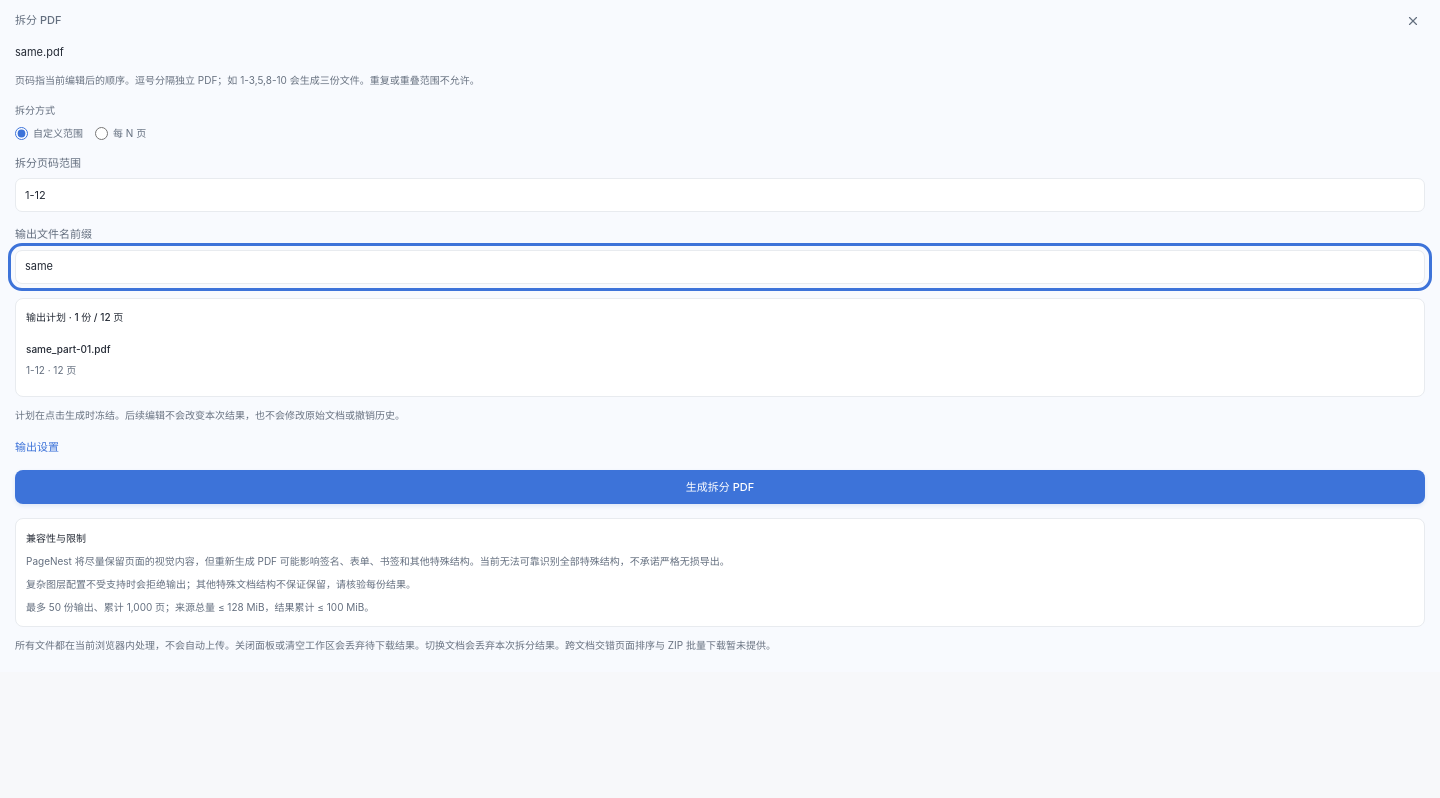
Scenario: PDF merge and split operation panel › previews every-N remainder outputs and downloads verified results only by individual clicks
Click the radio button labelled "每 N 页".
click(102, 133)  # box [95,127,108,140]
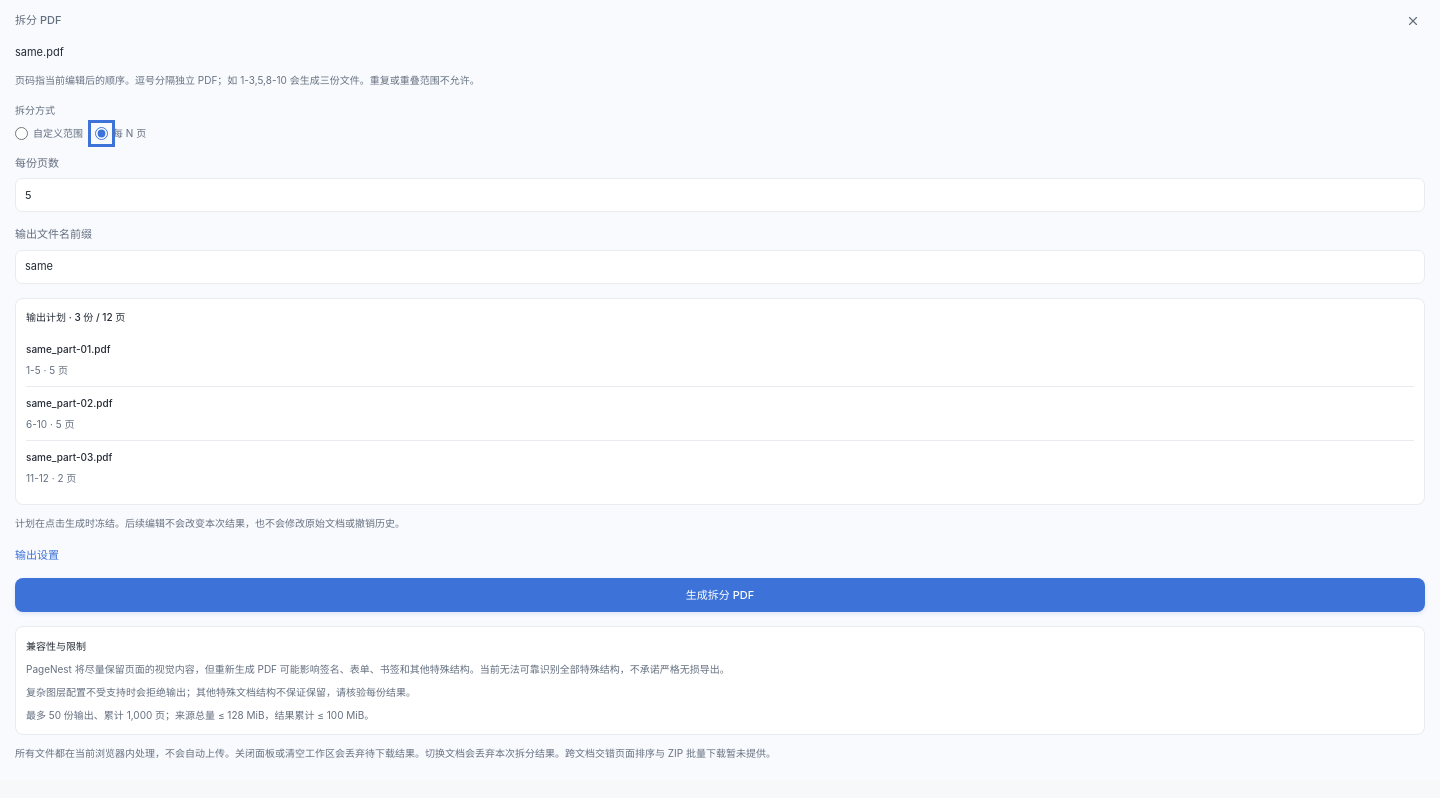
Replace the text in the field labelled "输出文件名前缀" with "报告/新版" at (720, 267), box [15,250,1425,284]
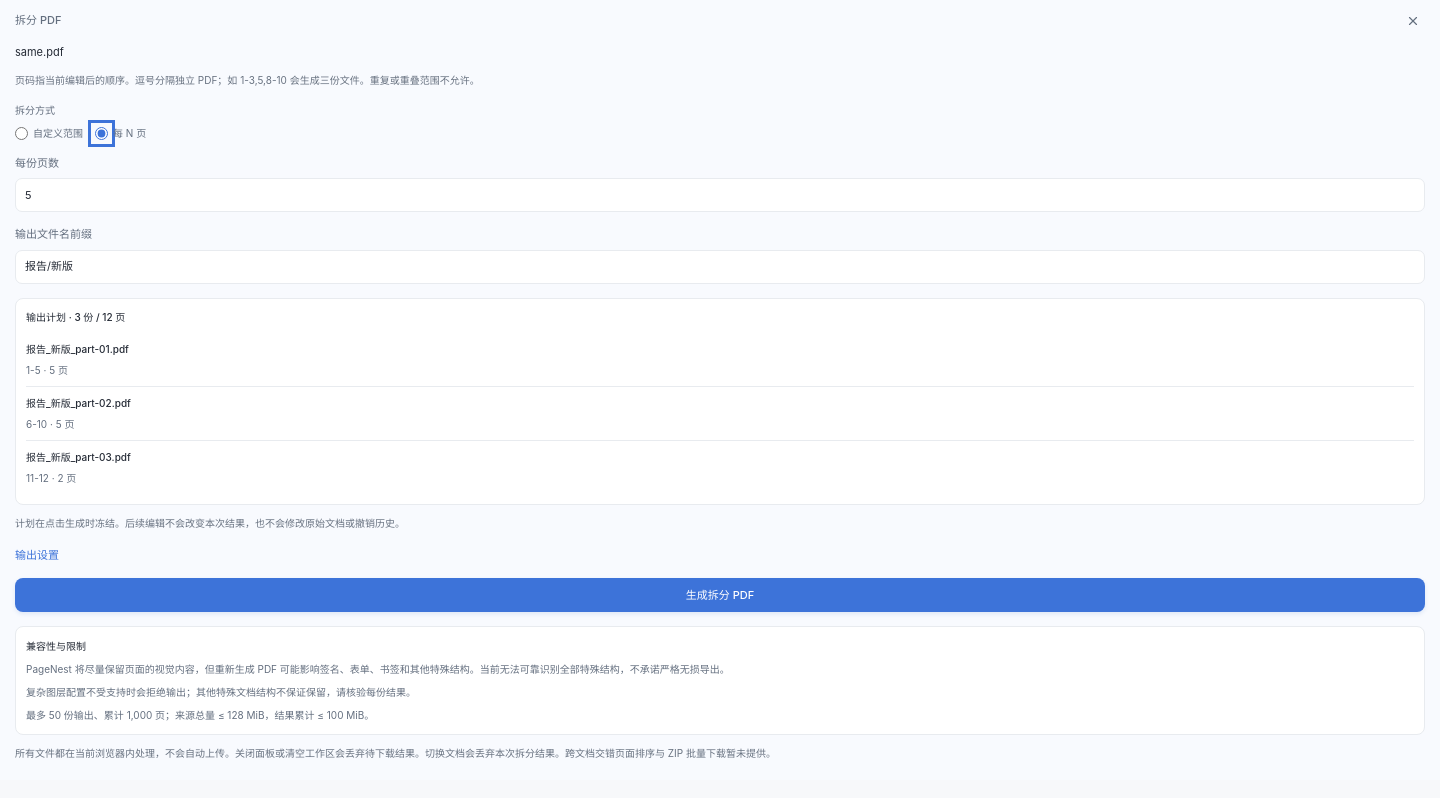
Expected: the number of list items is 3, [26,343,129,376]; [26,386,1414,440]; [26,440,1414,494]
Expected: the text "11-12 · 2 页" is shown, [26,472,76,484]
Expected: the text "报告_新版_part-03.pdf" is shown, [26,451,131,463]
Click the button "生成拆分 PDF".
click(720, 596)  # box [15,578,1425,612]
(page scrolled)
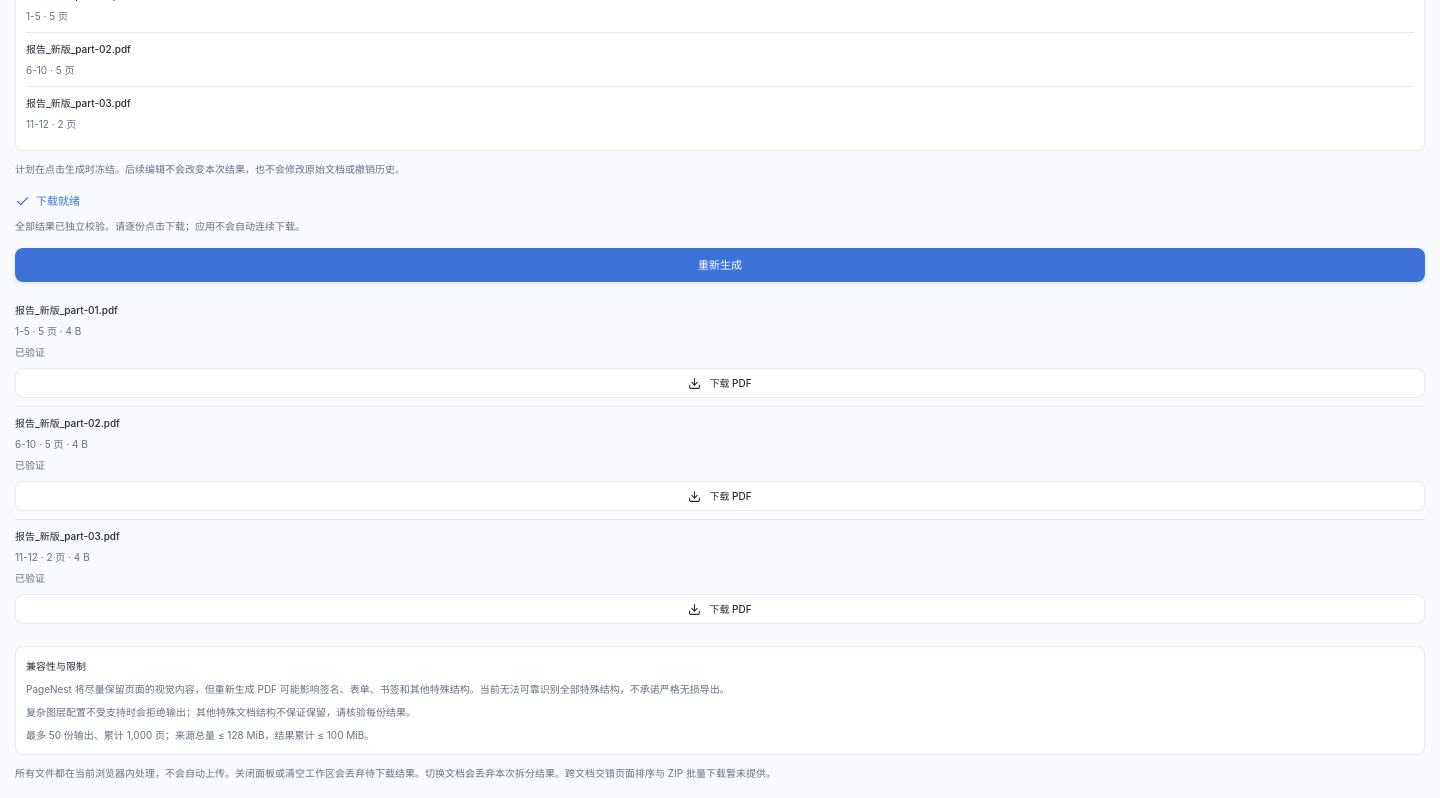
Click the button with aria-label "下载 报告_新版_part-02.pdf".
click(720, 496)  # box [15,482,1425,512]
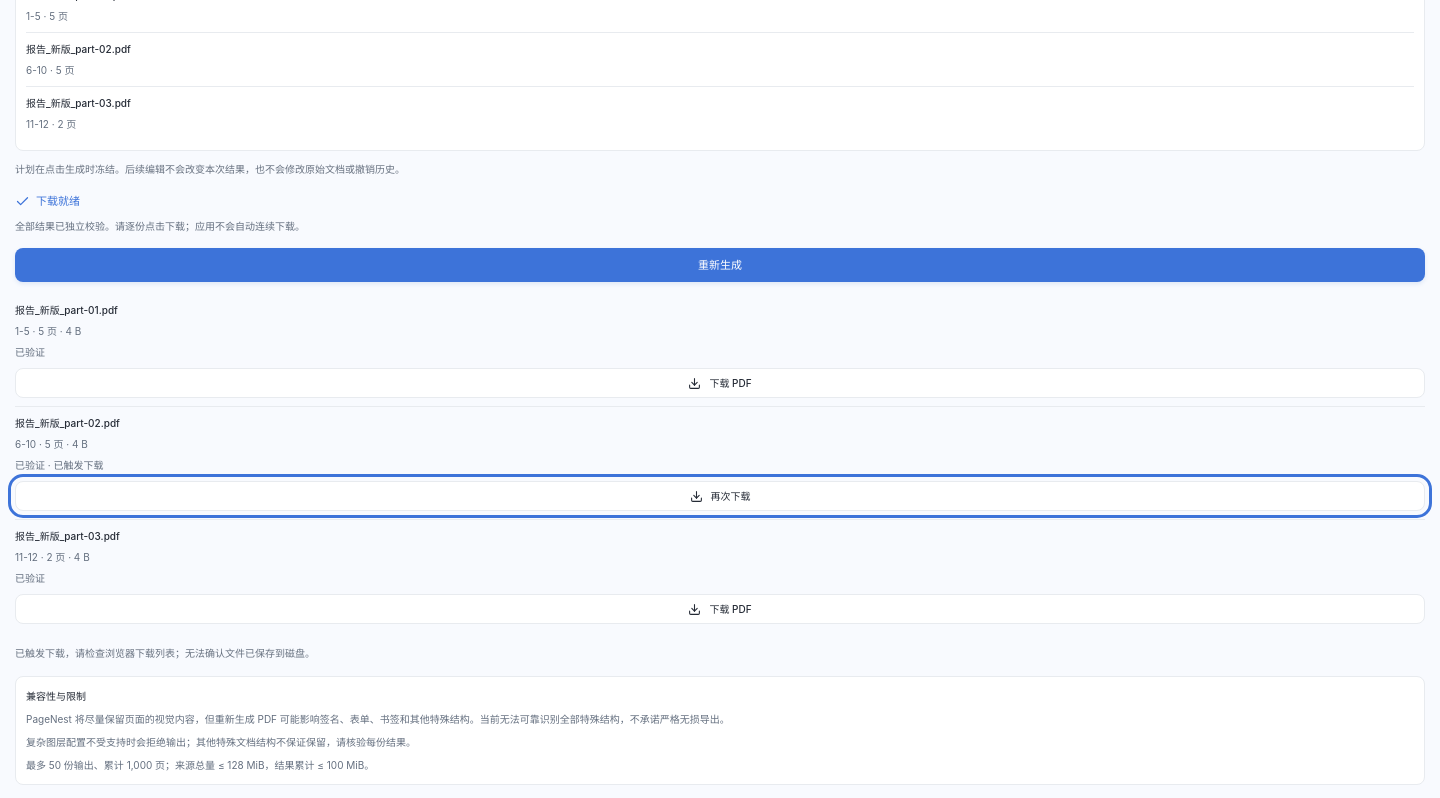
Expected: the text "已触发下载，请检查浏览器下载列表；无法确认文件已保存到磁盘。" is shown, [15,648,315,660]
